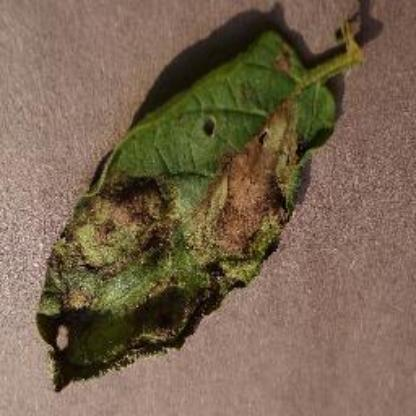Late-Blight: (35, 23, 375, 393)
